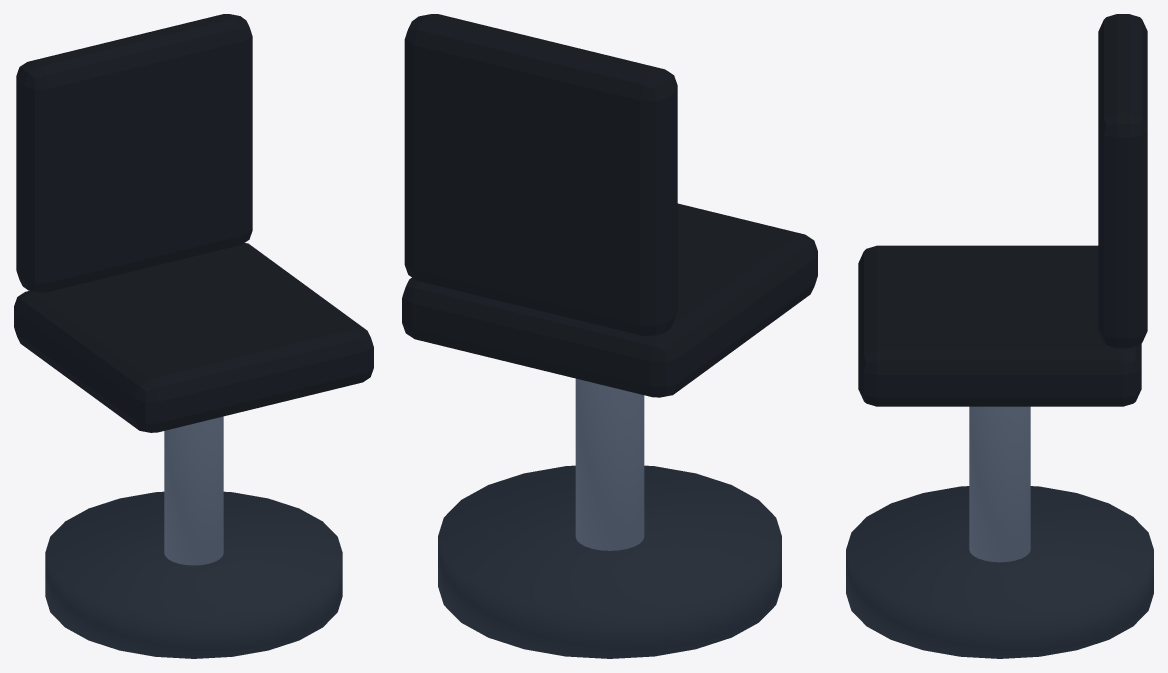
The model's file is silla.glb.
3 views of the same model, side by side, from view 1: azimuth 30°, elevation 25°; view 2: azimuth 150°, elevation 25°; view 3: azimuth 270°, elevation 25° (orthographic). The views are drawn at different scales.
Parts seen in each view (by area): view 1: Cube.042, Cube.041, Cylinder.023, Cylinder.024; view 2: Cube.042, Cylinder.023, Cube.041, Cylinder.024; view 3: Cube.041, Cylinder.023, Cube.042, Cylinder.024.
Boxes of the visible parts, x1,y1,x2,y2 form: Cube.042: (16, 14, 252, 292); Cube.041: (14, 243, 373, 432); Cylinder.023: (45, 491, 342, 658); Cylinder.024: (164, 416, 223, 565); Cube.042: (404, 14, 677, 336); Cylinder.023: (438, 465, 781, 658); Cube.041: (402, 203, 817, 397); Cylinder.024: (575, 378, 644, 550); Cube.041: (858, 245, 1141, 406); Cylinder.023: (846, 486, 1153, 658); Cube.042: (1098, 14, 1147, 348); Cylinder.024: (969, 406, 1030, 562).
Size of the model in its own units: 0.5 by 0.95 by 0.5.
